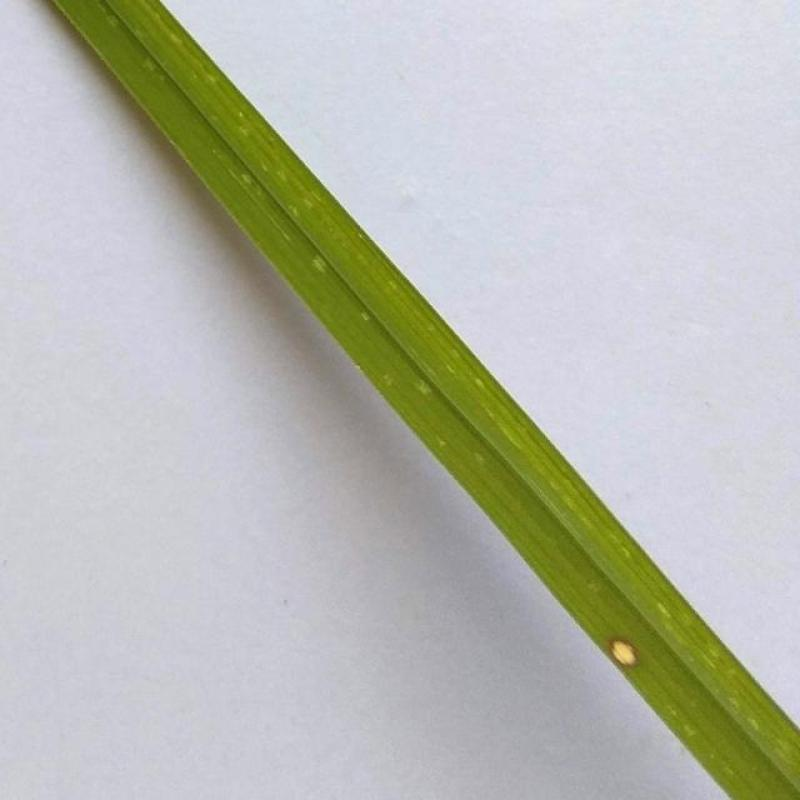Leaf_Blast: (590, 594, 702, 738)
